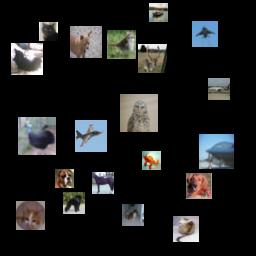airplane: (199, 134, 234, 169), (75, 120, 107, 152), (192, 21, 218, 47), (208, 78, 230, 100), (142, 151, 161, 170)
bird: (18, 117, 56, 155), (120, 94, 158, 132), (107, 30, 136, 59)
cat: (11, 43, 43, 75), (16, 201, 45, 230), (173, 216, 199, 242), (39, 22, 58, 41)
deer: (138, 44, 167, 73)
dog: (70, 26, 102, 58), (186, 173, 212, 199), (63, 192, 85, 214), (122, 204, 144, 226), (55, 169, 74, 188)
ship: (149, 3, 168, 22)
